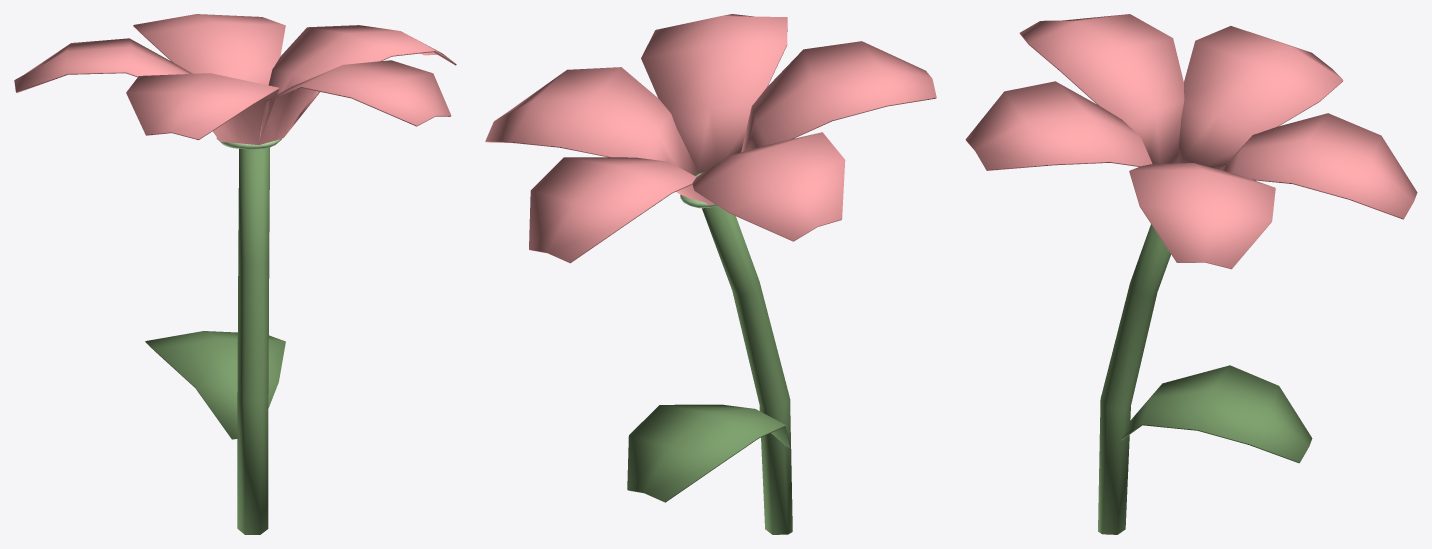
The model's file is big_fragaria_flower3.fbx.
3 views of the same model, side by side, from view 1: azimuth 30°, elevation 25°; view 2: azimuth 150°, elevation 25°; view 3: azimuth 270°, elevation 25° (orthographic).
Visible parts, largest first — view 1: Big fragaria flower 3; view 2: Big fragaria flower 3; view 3: Big fragaria flower 3.
Boxes of the visible parts, x1,y1,x2,y2 form: Big fragaria flower 3: (14,14,456,534); Big fragaria flower 3: (485,14,936,534); Big fragaria flower 3: (965,14,1417,534).
Bounding box in the file's own units: 283 × 329 × 287.
